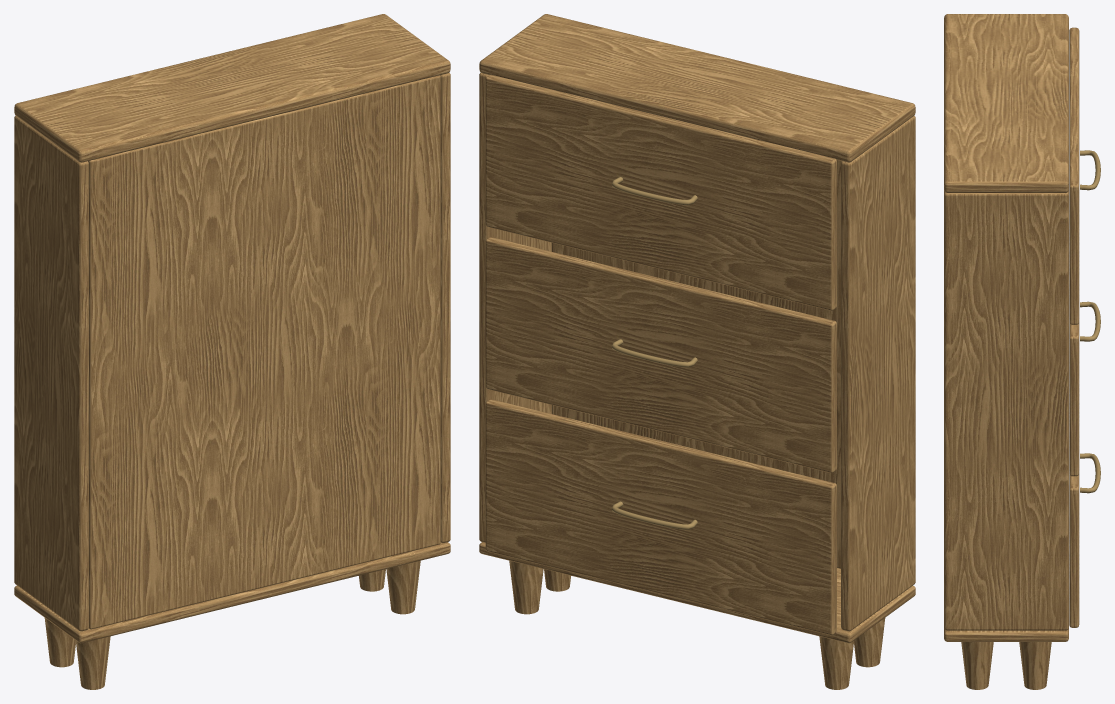
Rendered from residential-tilt-shoe-cabinet.glb.
3 renders of one model, left to right at view 1: azimuth 30°, elevation 25°; view 2: azimuth 150°, elevation 25°; view 3: azimuth 270°, elevation 25°, orthographic. The views are drawn at different scales.
Visible parts, largest first — view 1: oak_surfaces; view 2: oak_surfaces, bronze_surfaces; view 3: oak_surfaces, bronze_surfaces.
Boxes of the visible parts, bbox=[...] form: oak_surfaces: bbox=[14, 14, 450, 689]; oak_surfaces: bbox=[479, 14, 915, 689]; bronze_surfaces: bbox=[611, 177, 697, 529]; oak_surfaces: bbox=[944, 14, 1079, 689]; bronze_surfaces: bbox=[1080, 150, 1100, 493].
Bounding box in the file's own units: 0.8999 × 1.28 × 0.3517.
Materials: 2 (1 with a texture image).
